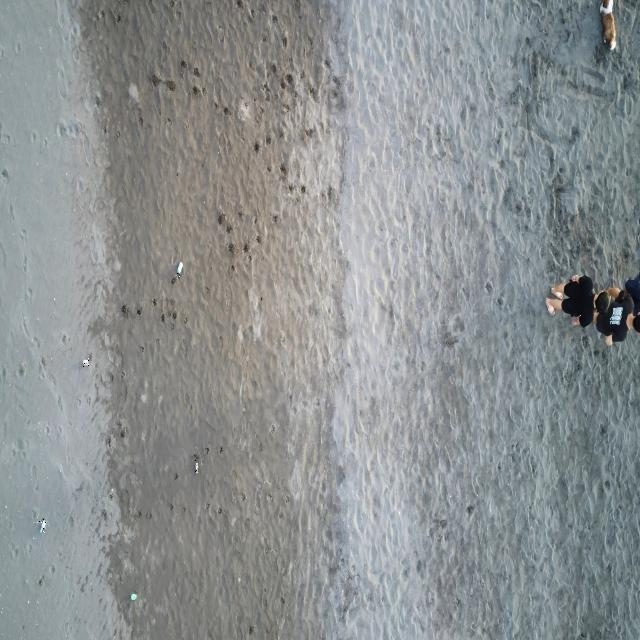tin-and-aluminum-cans: (38, 519, 46, 534), (176, 262, 184, 277), (82, 358, 90, 368), (131, 591, 138, 601), (195, 460, 199, 476)
